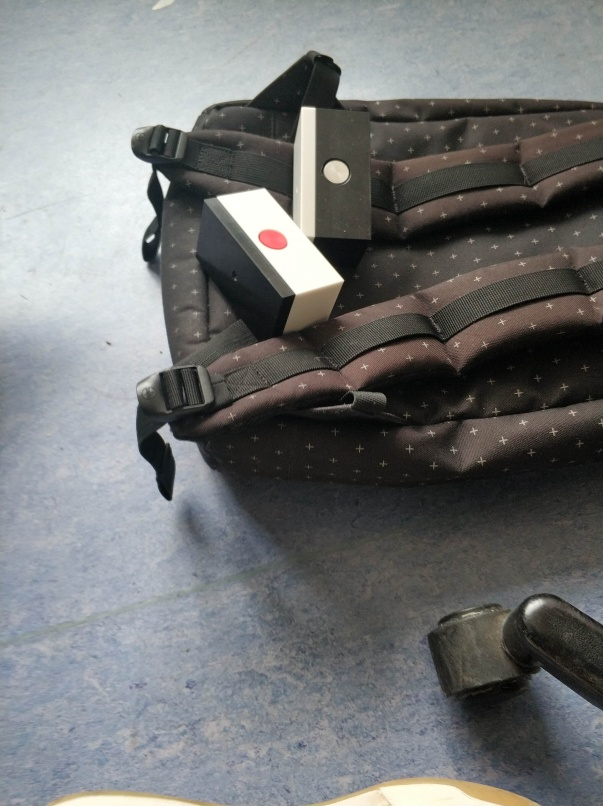black+white+red: (191, 184, 349, 341)
white+black+silver: (289, 102, 377, 261)
